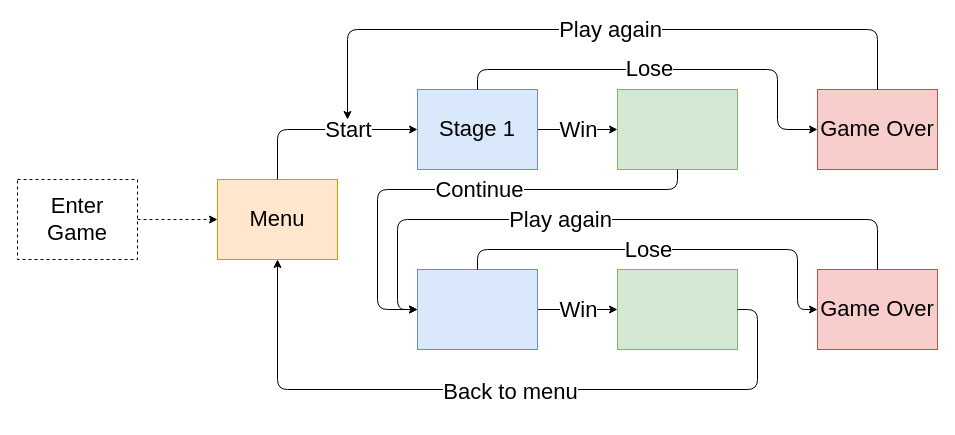
This 955x435 diagram has some shape labels left out. Here are the shapes that lost their labels. From the top down, the box of each, then its label:
(616, 88, 738, 170): First Win
(416, 268, 538, 350): Stage 2
(616, 268, 738, 350): Second Win
